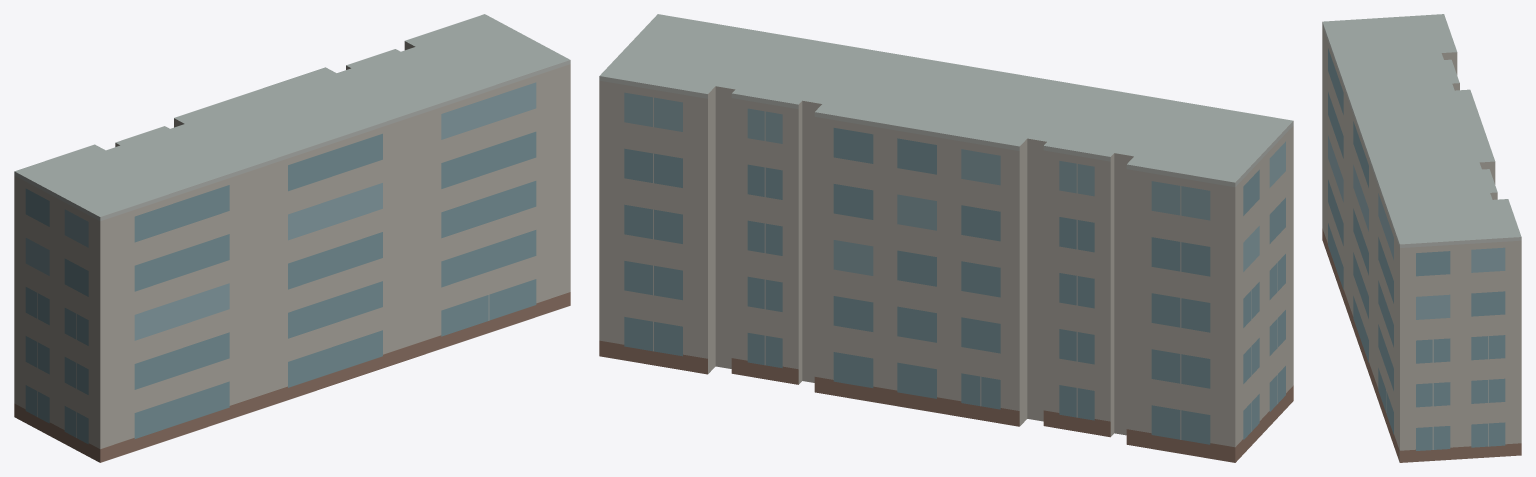
Rendered from survey-upis-32705275.glb.
3 views of the same model, side by side, from view 1: azimuth 30°, elevation 25°; view 2: azimuth 150°, elevation 25°; view 3: azimuth 270°, elevation 25° (orthographic). The views are drawn at different scales.
Parts seen in each view (by area): view 1: survey-upis-32705275.tmp; view 2: survey-upis-32705275.tmp; view 3: survey-upis-32705275.tmp.
Boxes of the visible parts, <box> form: survey-upis-32705275.tmp: <box>14,14,570,462</box>; survey-upis-32705275.tmp: <box>599,14,1293,462</box>; survey-upis-32705275.tmp: <box>1322,14,1521,462</box>.
Size of the model in its own units: 33.04 by 14.6 by 12.07.
